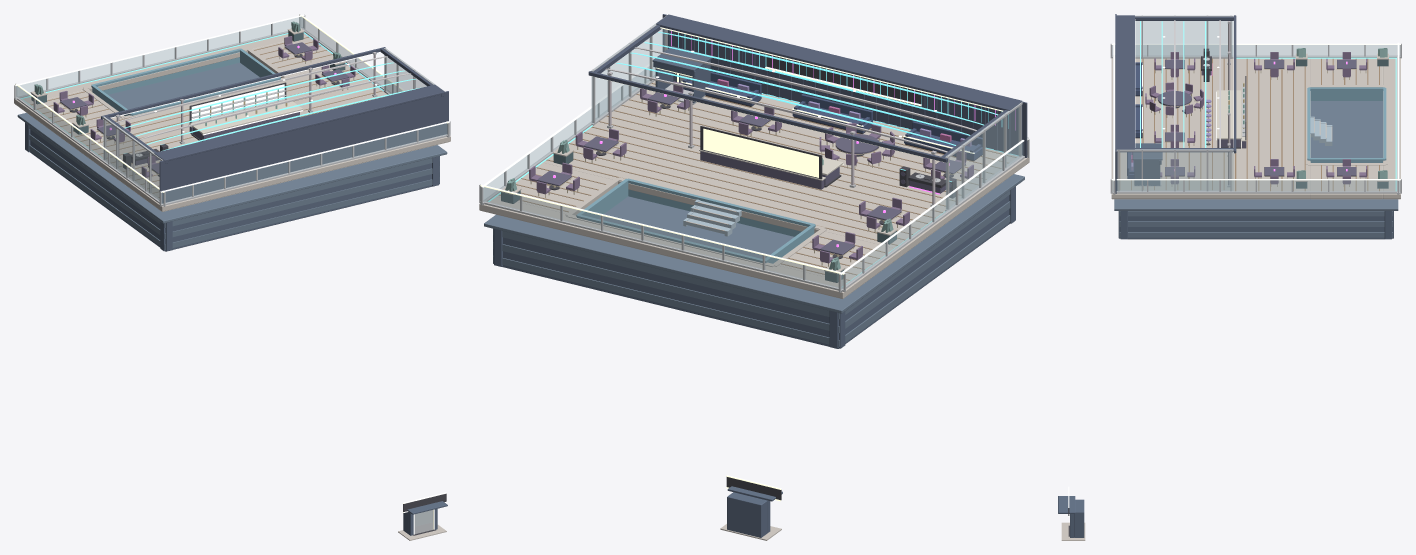
File: LM_ENV_SkyDining.glb
3 renders of one model, left to right at view 1: azimuth 30°, elevation 25°; view 2: azimuth 150°, elevation 25°; view 3: azimuth 270°, elevation 25°, orthographic. The views are drawn at different scales.
Parts seen in each view (by area): view 1: skydining | Lounge navy, skydining | Crown band, skydining | Deck travertine, skydining | Balustrade glass, skydining | Hotel crown, skydining | Brushed steel, skydining | Warm strip, skydining | Pool tile, skydining | Strand blue, skydining | Bar joinery, skydining | Deck teak, skydining | Ceiling rib (+3 smaller); view 2: skydining | Deck travertine, skydining | Crown band, skydining | Lounge navy, skydining | Balustrade glass, skydining | Hotel crown, skydining | Brushed steel, skydining | Warm strip, skydining | Deck teak, skydining | Bar joinery, skydining | Dark metal, skydining | Chair shell, skydining | Strand blue (+7 smaller); view 3: skydining | Deck travertine, skydining | Crown band, skydining | Balustrade glass, skydining | Hotel crown, skydining | Lounge navy, skydining | Brushed steel, skydining | Deck teak, skydining | Chair shell, skydining | Warm strip, skydining | Bar joinery, skydining | Pool tile, skydining | Strand blue (+6 smaller).
Part boxes in pixels (x1=…): skydining | Lounge navy: x1=101, y1=47, x2=448, y2=203; skydining | Crown band: x1=17, y1=62, x2=447, y2=249; skydining | Deck travertine: x1=14, y1=28, x2=450, y2=540; skydining | Balustrade glass: x1=16, y1=17, x2=447, y2=525; skydining | Hotel crown: x1=25, y1=122, x2=447, y2=535; skydining | Brushed steel: x1=14, y1=14, x2=450, y2=533; skydining | Warm strip: x1=15, y1=14, x2=449, y2=534; skydining | Pool tile: x1=91, y1=48, x2=280, y2=115; skydining | Strand blue: x1=20, y1=32, x2=420, y2=158; skydining | Bar joinery: x1=60, y1=42, x2=349, y2=173; skydining | Deck teak: x1=30, y1=37, x2=382, y2=197; skydining | Ceiling rib: x1=116, y1=56, x2=410, y2=139; skydining | Deck travertine: x1=479, y1=80, x2=1029, y2=540; skydining | Crown band: x1=484, y1=174, x2=1024, y2=346; skydining | Lounge navy: x1=588, y1=14, x2=1027, y2=162; skydining | Balustrade glass: x1=483, y1=24, x2=1023, y2=288; skydining | Hotel crown: x1=493, y1=46, x2=1015, y2=537; skydining | Brushed steel: x1=479, y1=15, x2=1029, y2=292; skydining | Warm strip: x1=480, y1=27, x2=1028, y2=501; skydining | Deck teak: x1=499, y1=83, x2=1016, y2=280; skydining | Bar joinery: x1=537, y1=92, x2=965, y2=255; skydining | Dark metal: x1=549, y1=54, x2=1020, y2=500; skydining | Chair shell: x1=529, y1=81, x2=973, y2=263; skydining | Strand blue: x1=488, y1=32, x2=1017, y2=286; skydining | Deck travertine: x1=1061, y1=53, x2=1400, y2=540; skydining | Crown band: x1=1114, y1=101, x2=1398, y2=237; skydining | Balustrade glass: x1=1112, y1=21, x2=1399, y2=191; skydining | Hotel crown: x1=1058, y1=143, x2=1393, y2=537; skydining | Lounge navy: x1=1115, y1=14, x2=1236, y2=193; skydining | Brushed steel: x1=1110, y1=15, x2=1401, y2=194; skydining | Deck teak: x1=1119, y1=58, x2=1379, y2=191; skydining | Chair shell: x1=1145, y1=52, x2=1367, y2=184; skydining | Warm strip: x1=1068, y1=19, x2=1400, y2=516; skydining | Bar joinery: x1=1157, y1=59, x2=1356, y2=176; skydining | Pool tile: x1=1307, y1=87, x2=1386, y2=162; skydining | Strand blue: x1=1140, y1=21, x2=1396, y2=190.
Size of the model in its own units: 36.16 by 49.29 by 37.98.
